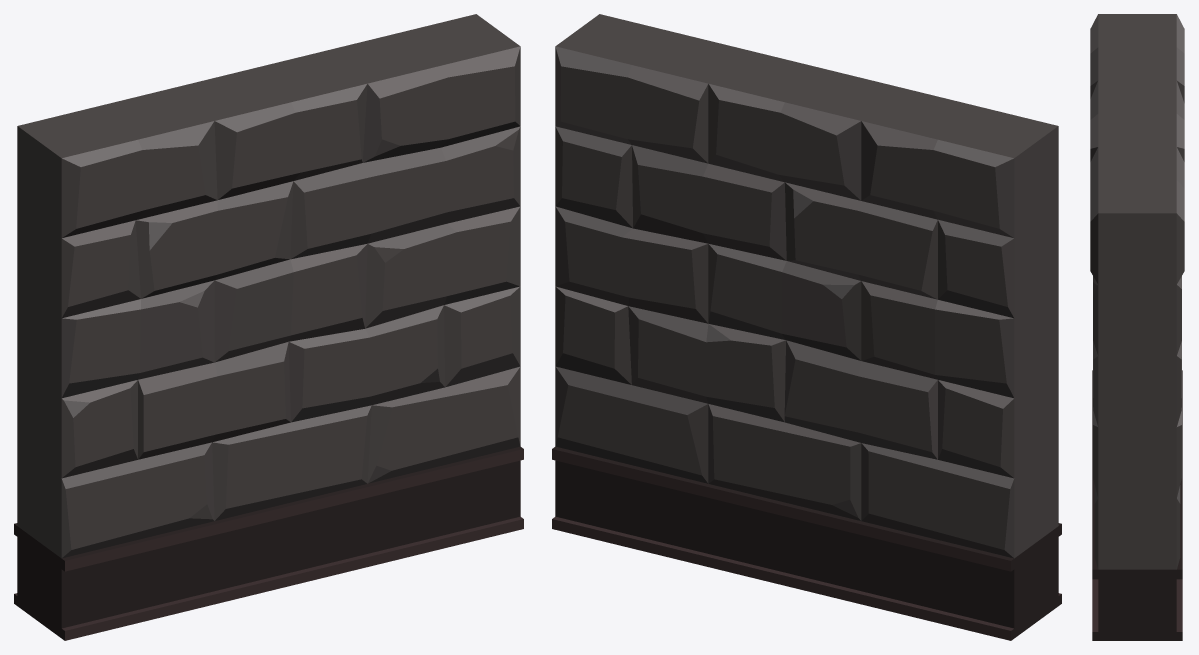
Rendered from Module_Stone_Straight_01.glb.
3 renders of one model, left to right at view 1: azimuth 30°, elevation 25°; view 2: azimuth 150°, elevation 25°; view 3: azimuth 270°, elevation 25°, orthographic. The views are drawn at different scales.
Parts seen in each view (by area): view 1: Module_Stone_Straight_01; view 2: Module_Stone_Straight_01; view 3: Module_Stone_Straight_01.
Part boxes in pixels (x1,y1,x2,y2): Module_Stone_Straight_01: [14, 14, 523, 640]; Module_Stone_Straight_01: [552, 14, 1061, 640]; Module_Stone_Straight_01: [1090, 14, 1184, 640].
Size of what is drawn, in the model's own units: 4 by 4 by 0.7978.
Materials: 1 (1 with a texture image).
